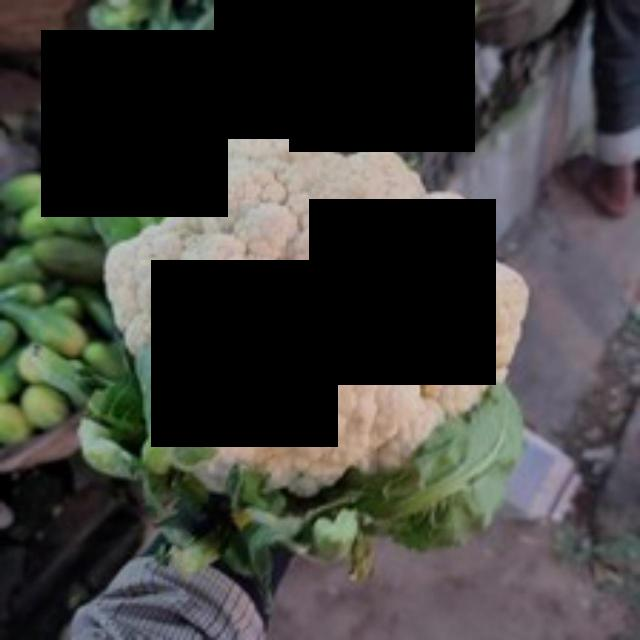cauliflower: (92, 113, 534, 536)
